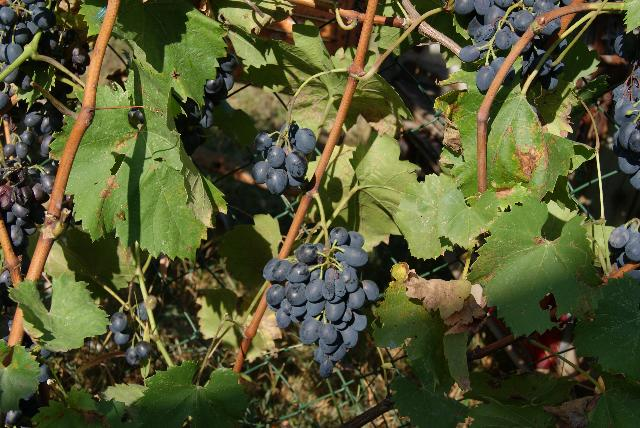grapes: (262, 228, 379, 379), (0, 102, 62, 272), (454, 0, 559, 91), (0, 0, 90, 74), (252, 122, 315, 195)
